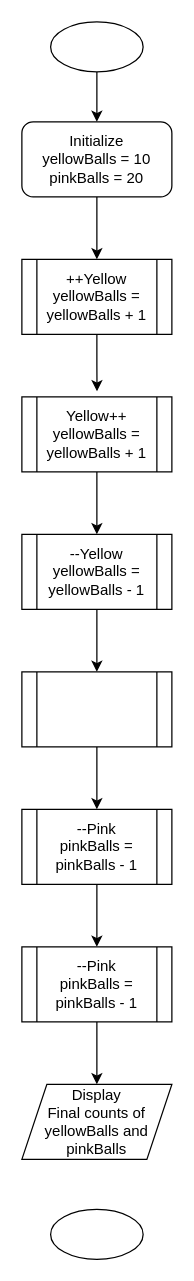
The diagram is 194 pixels wide and 1281 high, and some of its shapes have lost their labels. The shapes that lost their labels are listed below. From the top down, each one's centre as x and y in pixels, then its label:
At (x=96, y=46): "Start".
At (x=96, y=709): "++Pink pinkBalls = pinkBalls + 1".
At (x=96, y=1233): "Stop".
